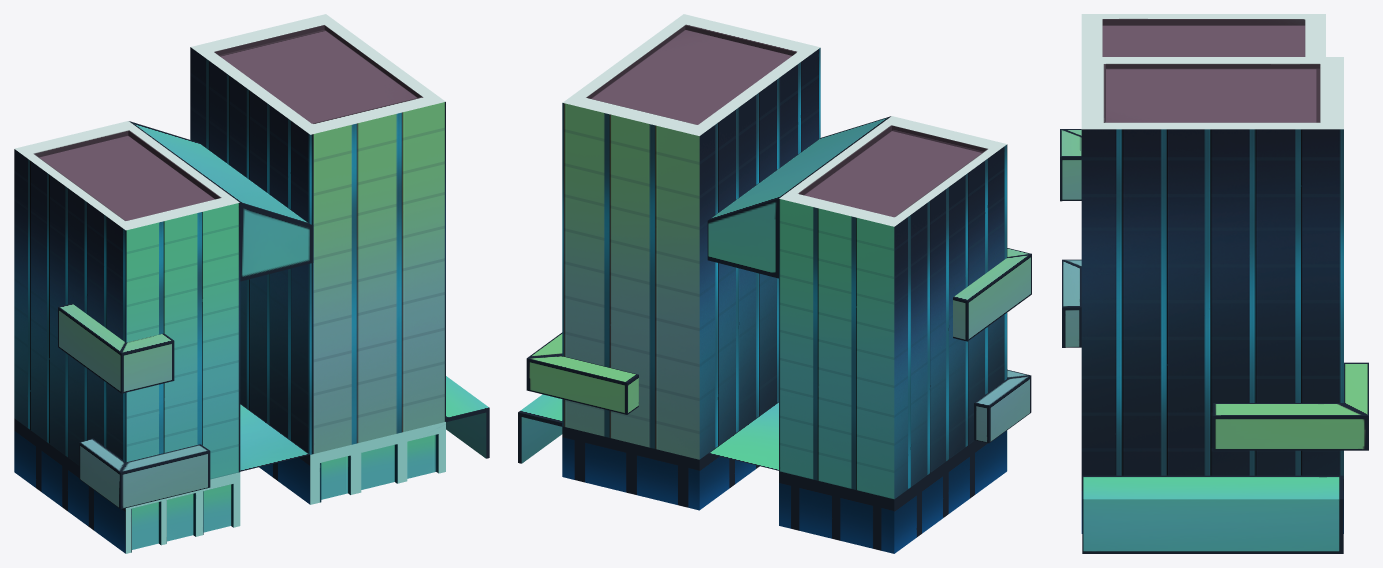
File: Tx_Exterior_Business_GenericOfficeBuilding_20170712.fbx
3 renders of one model, left to right at view 1: azimuth 30°, elevation 25°; view 2: azimuth 150°, elevation 25°; view 3: azimuth 270°, elevation 25°, orthographic. The views are drawn at different scales.
Parts seen in each view (by area): view 1: building; view 2: building; view 3: building.
Boxes of the visible parts, <box> form: building: <box>14,14,489,553</box>; building: <box>518,14,1031,553</box>; building: <box>1060,14,1368,553</box>.
Bounding box in the file's own units: 33.07 × 31.24 × 21.37.
